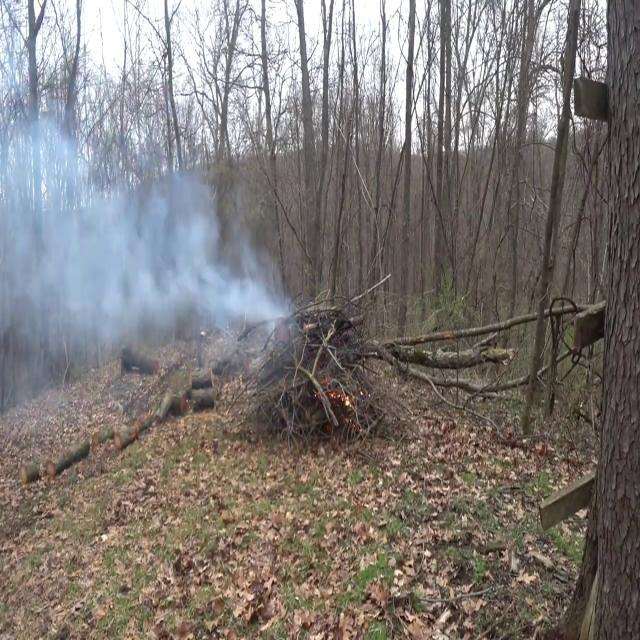Smoke: (0, 83, 288, 405)
